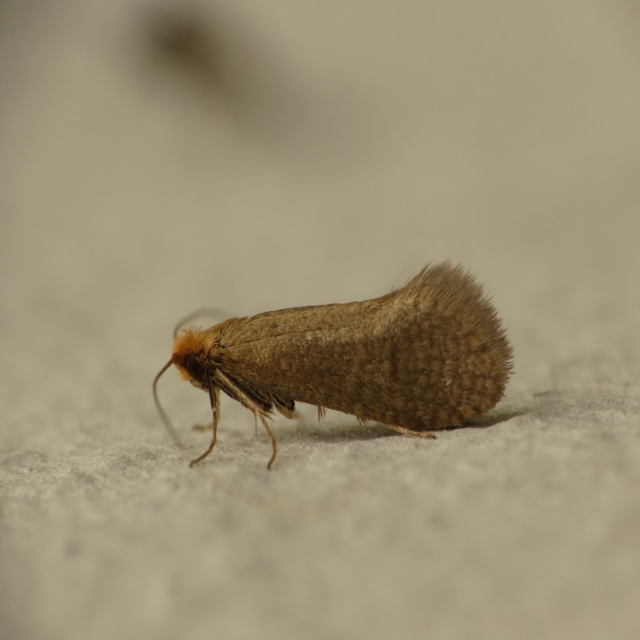Moths and butterflies: (154, 259, 518, 472)
